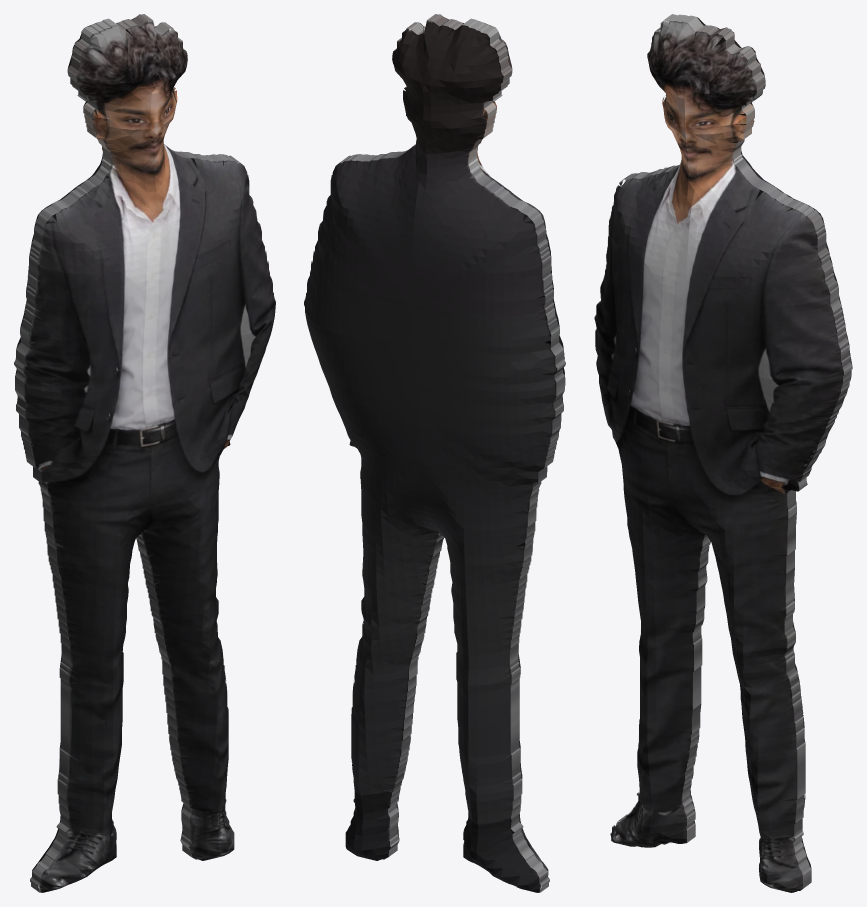
Rendered from suit_full_body_3d_relief.glb.
3 views of the same model, side by side, from view 1: azimuth 30°, elevation 25°; view 2: azimuth 150°, elevation 25°; view 3: azimuth 330°, elevation 25° (orthographic).
Visible parts, largest first — view 1: Photo_Front, Model_Edges, Model_Back; view 2: Model_Back, Model_Edges, Photo_Front; view 3: Photo_Front, Model_Edges, Model_Back.
Boxes of the visible parts, box(x1,y1,x2,y2) form: Photo_Front: box(22, 20, 275, 892); Model_Edges: box(14, 14, 238, 892); Model_Back: box(15, 14, 235, 884); Model_Back: box(304, 20, 557, 892); Model_Edges: box(341, 14, 565, 892); Photo_Front: box(345, 14, 565, 884); Photo_Front: box(594, 20, 843, 892); Model_Edges: box(618, 14, 852, 888); Model_Back: box(621, 17, 852, 868).
Bounding box in the file's own units: 0.5503 × 1.78 × 0.2328.
Materials: 2 (2 with a texture image).
